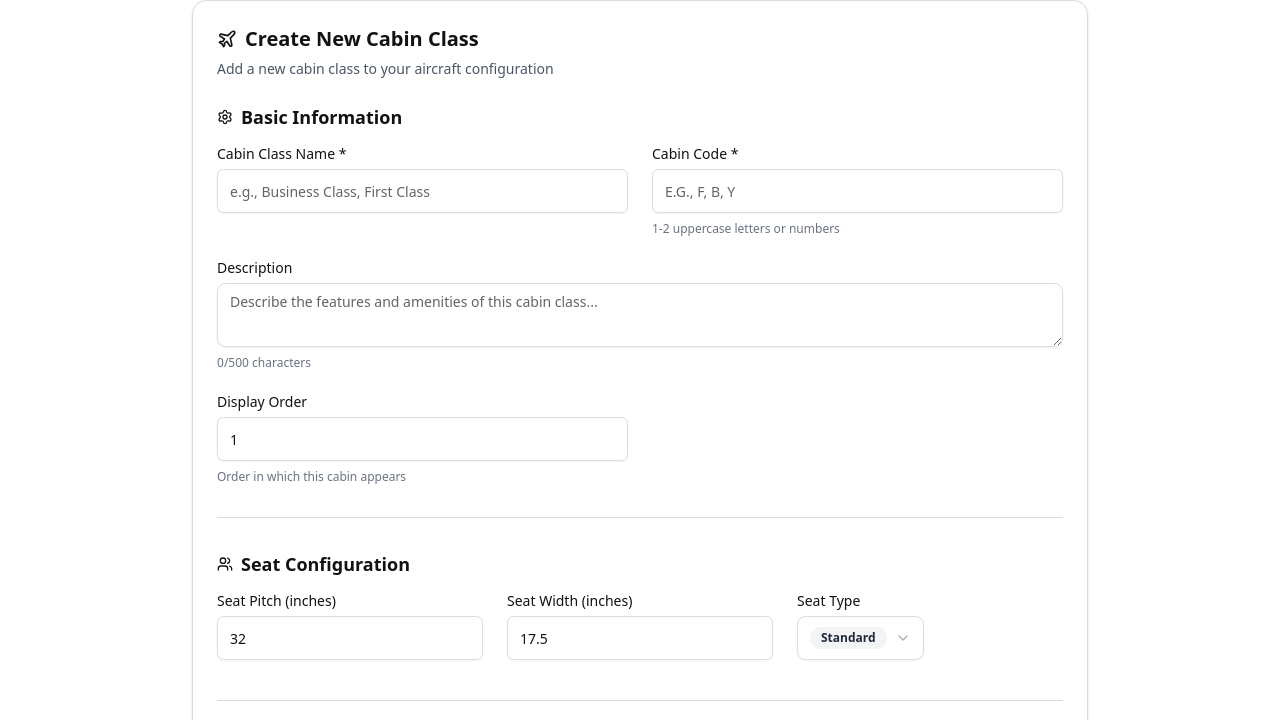
CabinClassForm › Create Mode › validates code format
This screenshot has width=1280, height=720.
Type "invalid" into the field labelled "Cabin Code *" at x=858, y=191, box [652,169,1063,213]
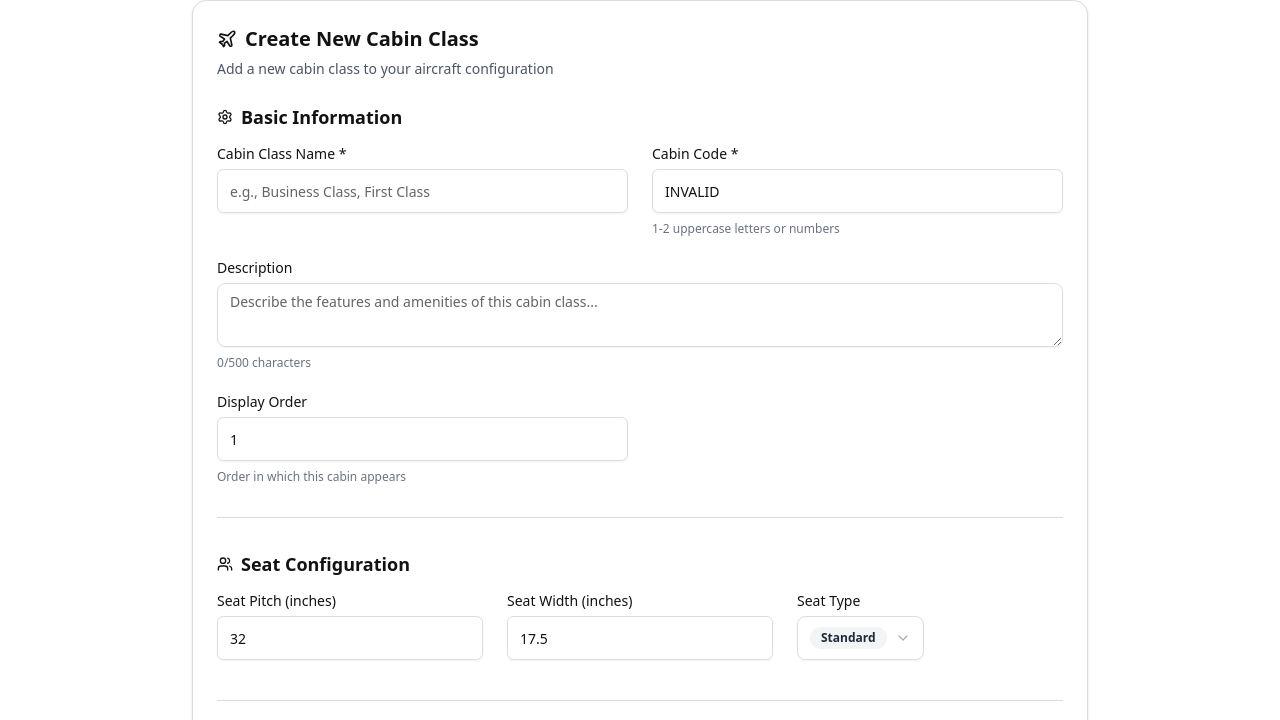
Leave the field labelled "Cabin Code *", box [652,169,1063,213]
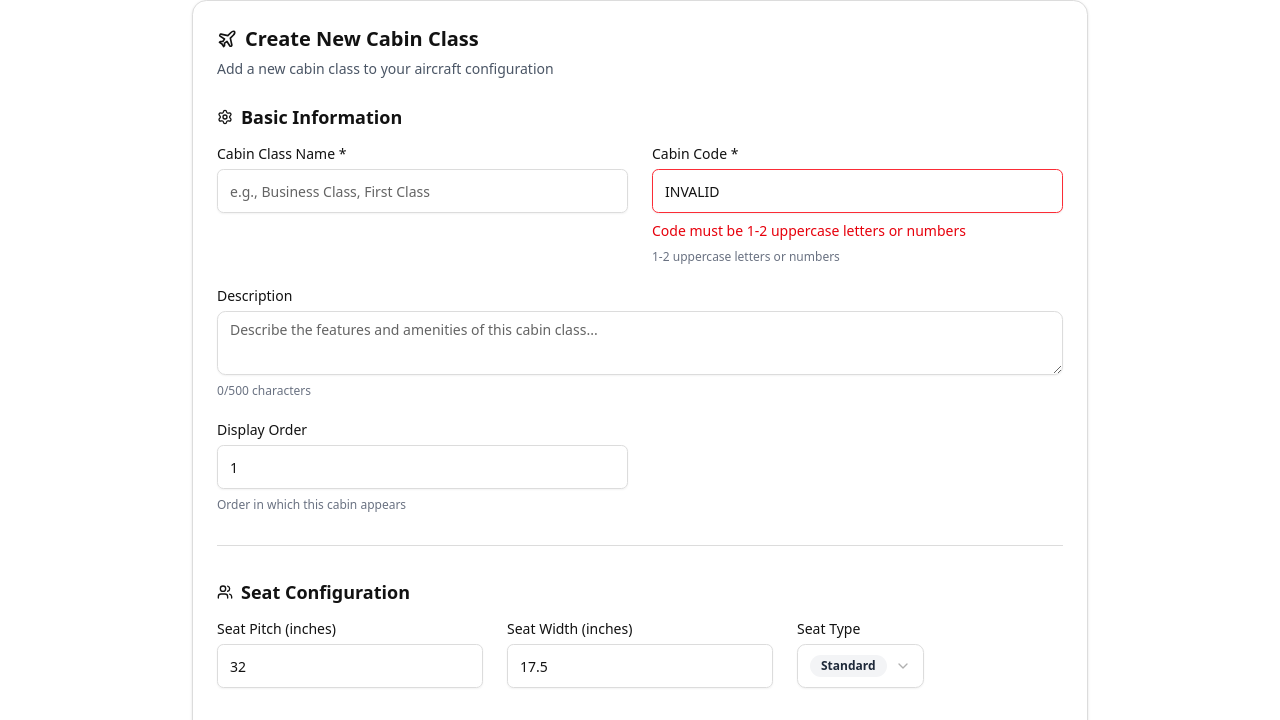
expect the text "Code must be 1-2 uppercase letters or numbers" is shown: met, box [652,221,966,240]
